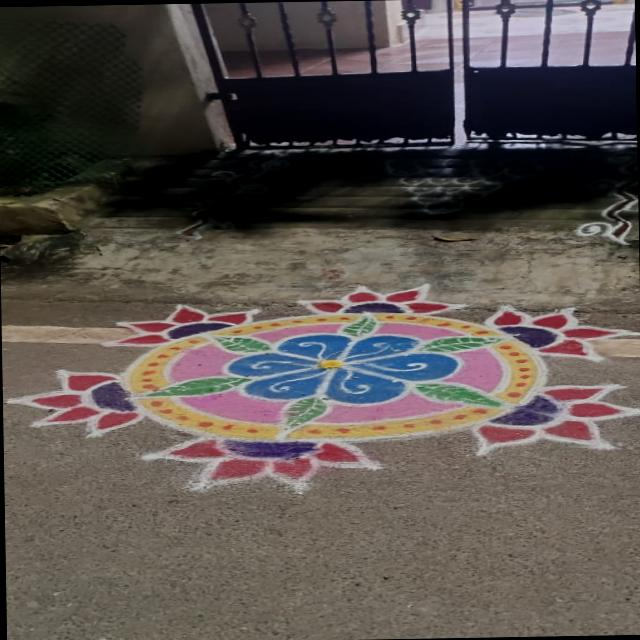rangoli: (0, 263, 640, 510)
